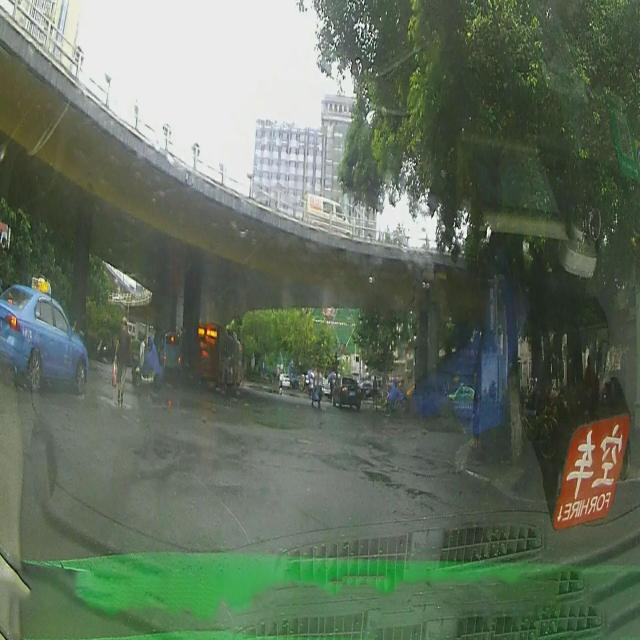car: (0, 274, 90, 393), (332, 377, 360, 408)
